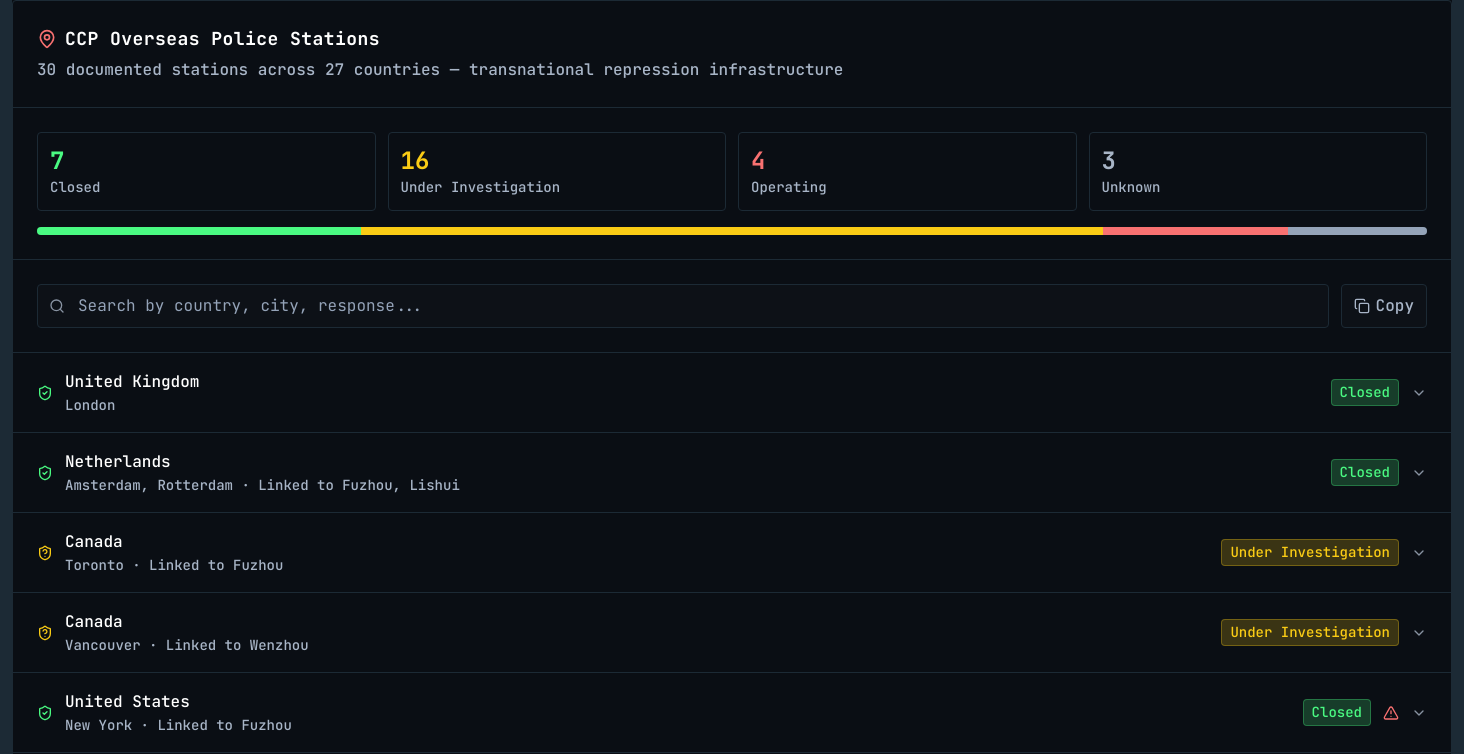
Test: OverseasPoliceStationTracker › shows Clear button when filter is active
Click the button "7 Closed" at (75, 187), box top-left (37, 132), bottom-right (376, 211)
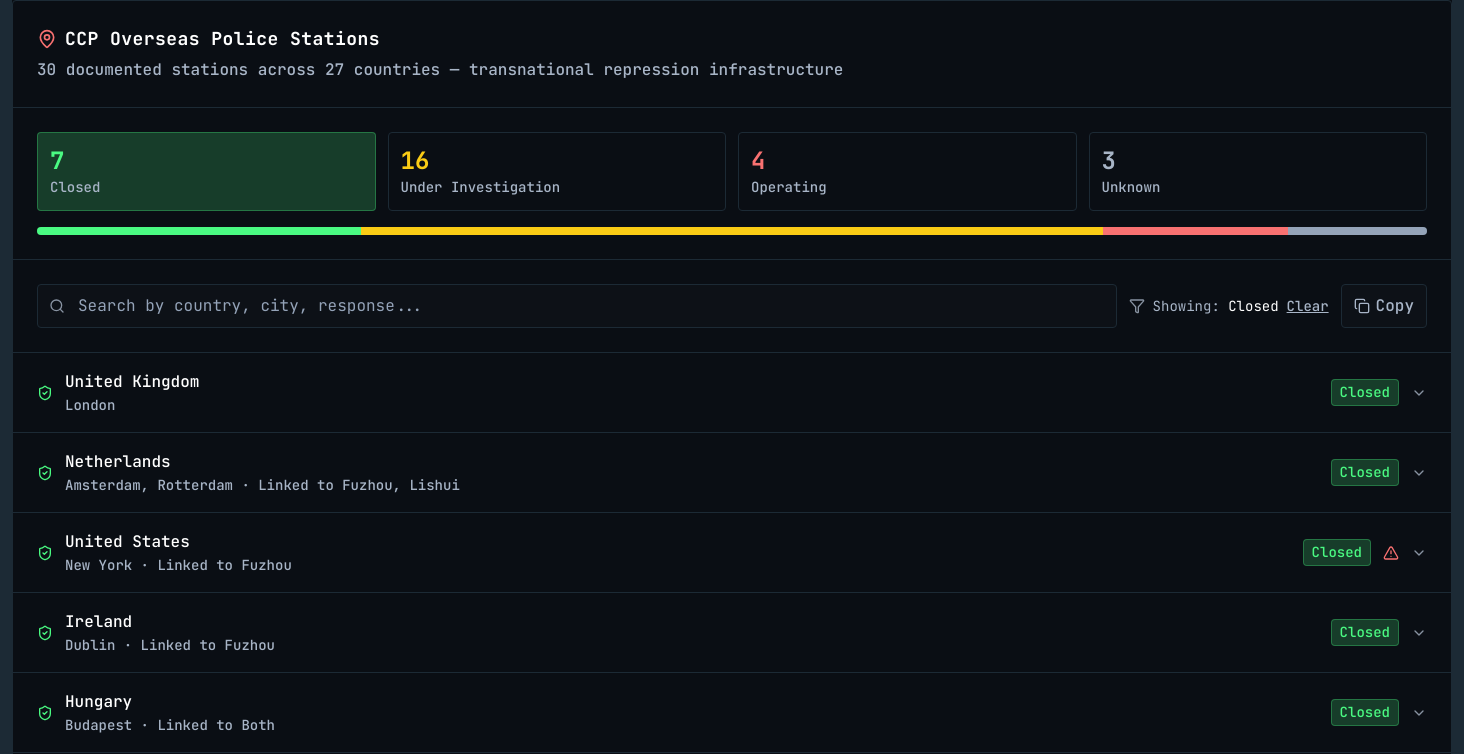
Check: the button "Clear" is shown, box top-left (1287, 296), bottom-right (1329, 316)
